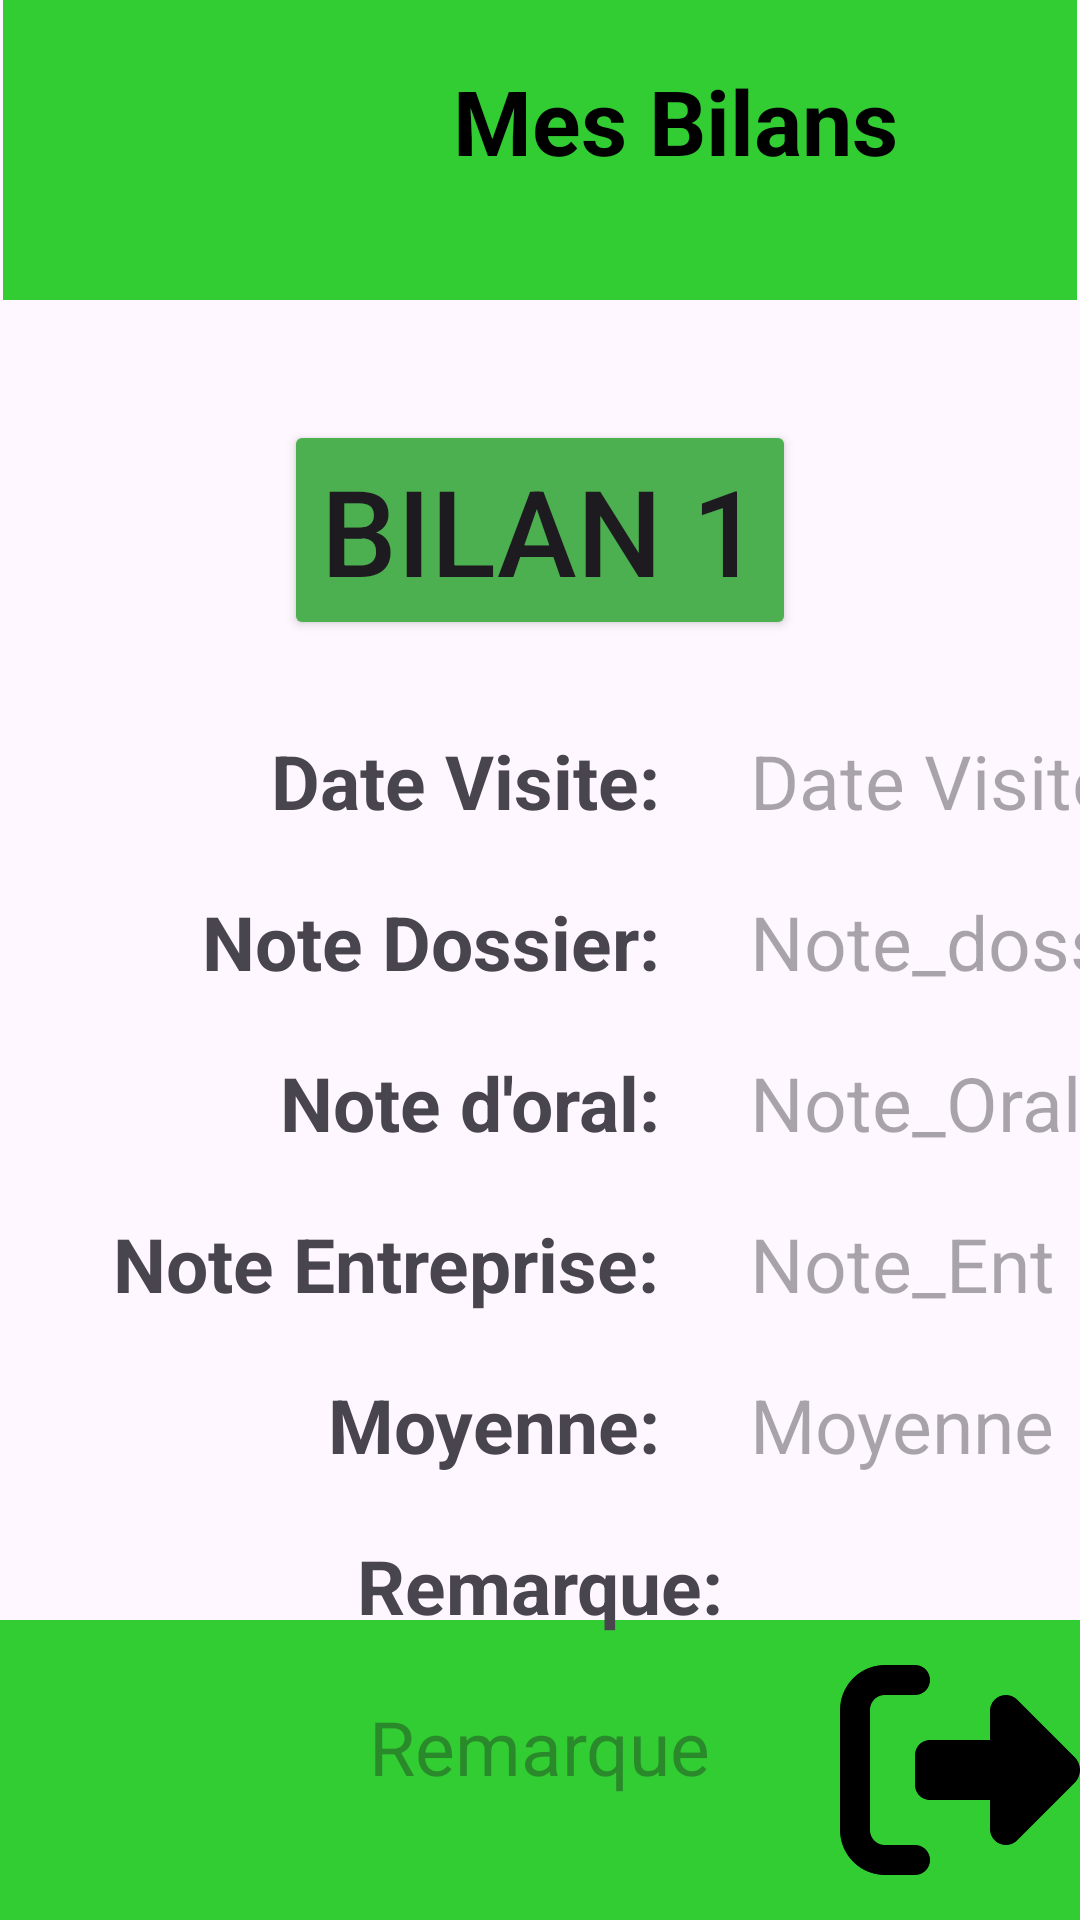

Where to tap for icons on this 1080px×1920px app screen, as (x,y):
escape: (960,1770)
